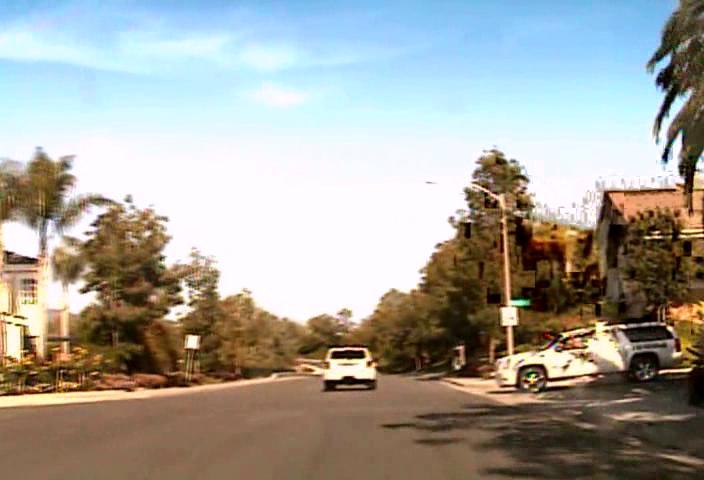speedLimitUrdbl: (500, 306, 518, 326)
